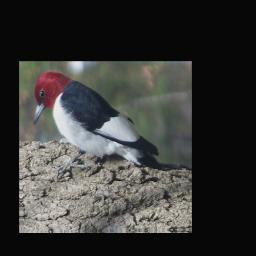Woodpecker: (31, 69, 163, 185)
